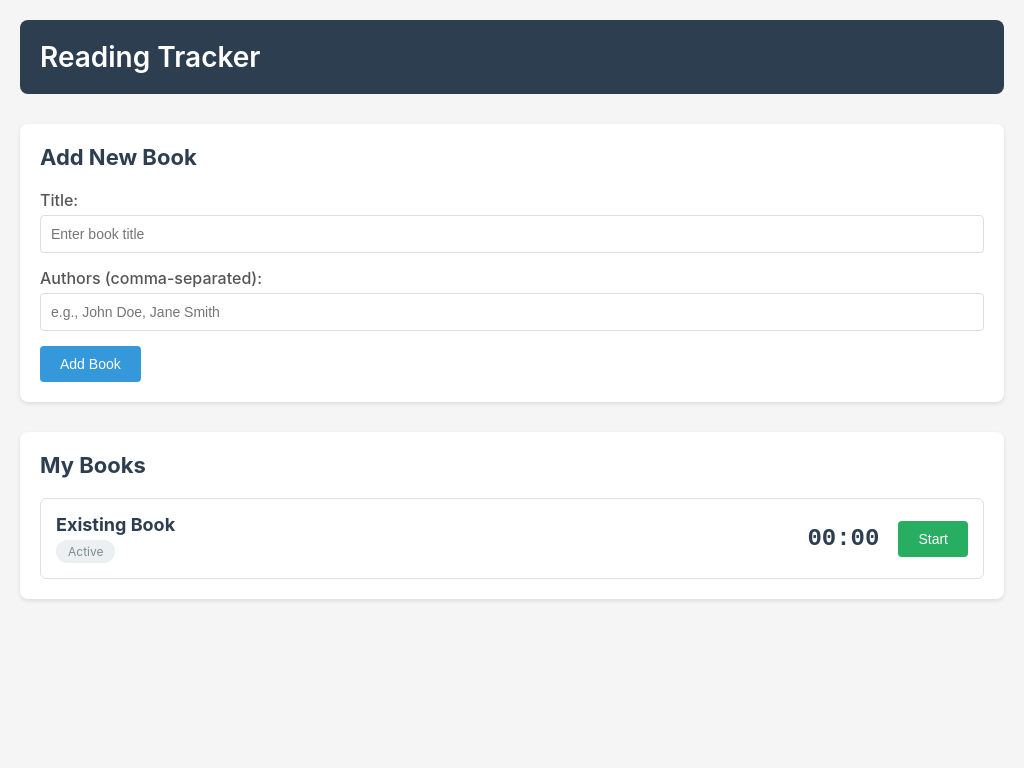
Test: App Component › Add Book Form › should refresh book list after adding a book
Expected: the heading "Existing Book" is shown, [56,514,175,535]
In the field labelled "Title:": (512, 234) [40,215,984,253], type "New Book"
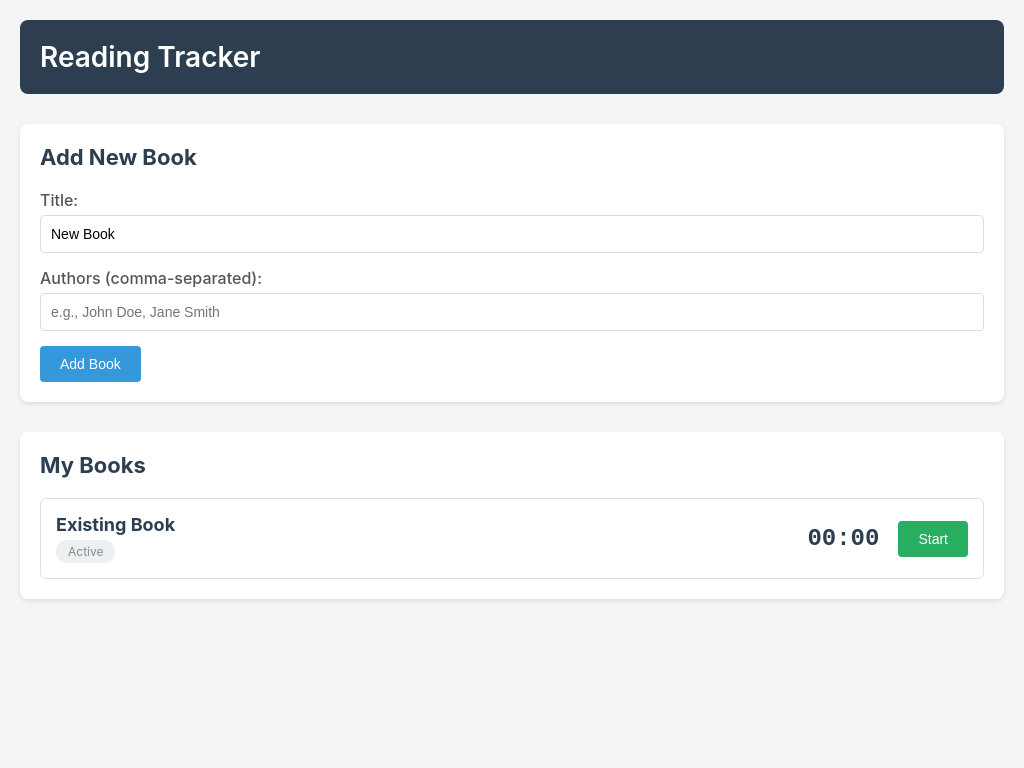
Click the button "Add Book": (90, 364) [40,346,141,382]
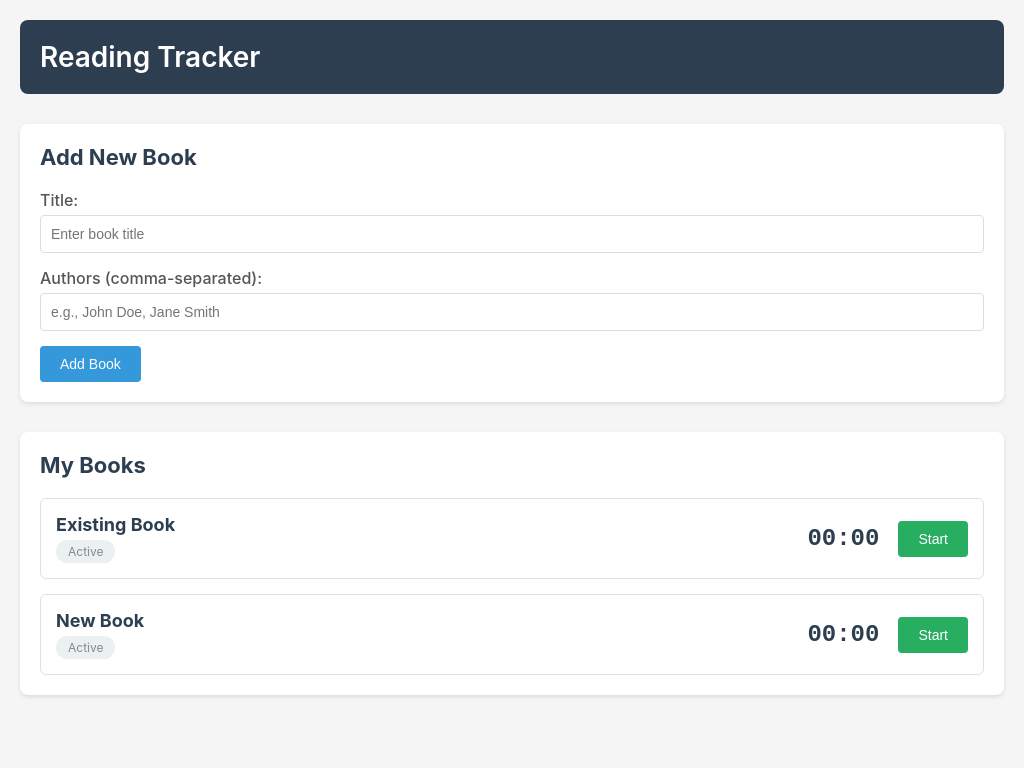
Expected: the heading "New Book" is shown, [56,610,144,631]
